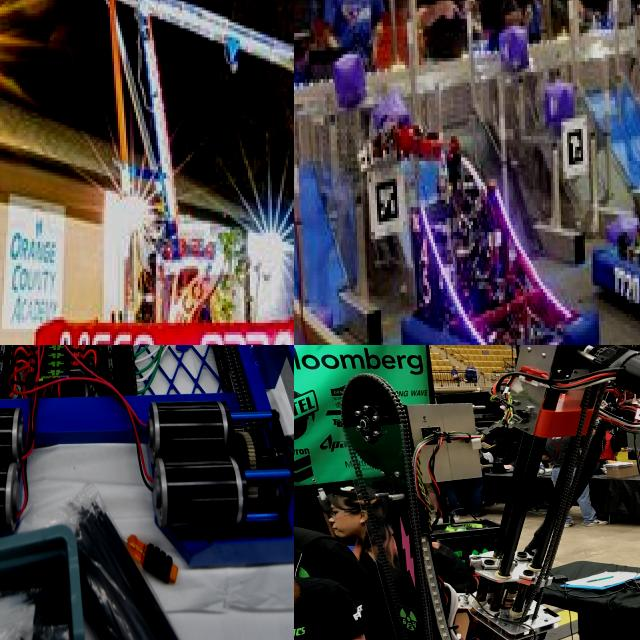FRC-Robots: (294, 0, 623, 345), (0, 0, 294, 345), (0, 345, 294, 575), (463, 345, 640, 640), (342, 373, 475, 640)
